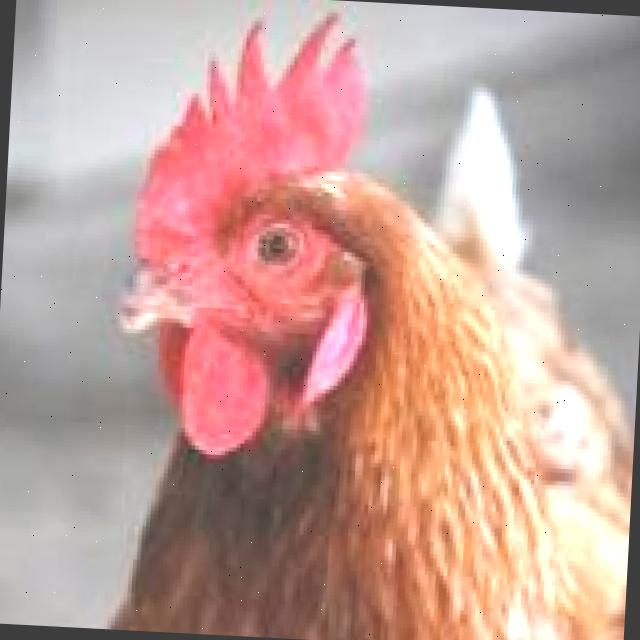Healthy: (88, 0, 640, 640)
